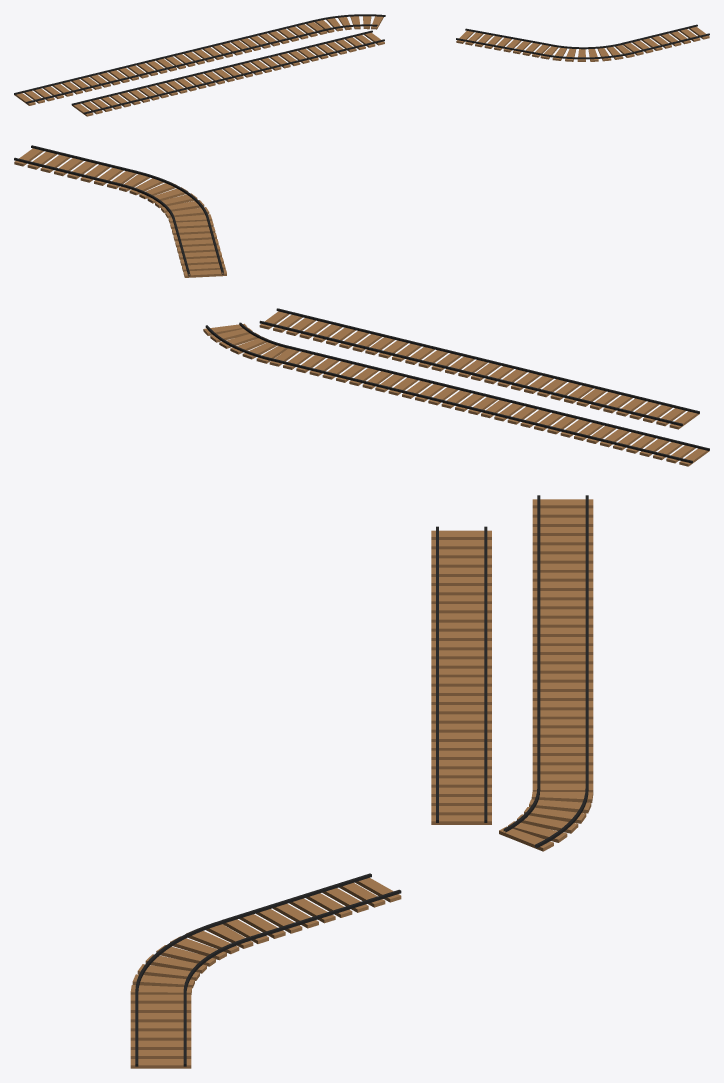
File: mesh_OwsiecimTrainTracksStat.fbx
The picture shows the model from 3 angles, top to bottom: view 1: azimuth 30°, elevation 25°; view 2: azimuth 150°, elevation 25°; view 3: azimuth 270°, elevation 25°; orthographic projection. The views are drawn at different scales.
Parts seen in each view (by area): view 1: TracksStat; view 2: TracksStat; view 3: TracksStat.
Part boxes in pixels (bbox=[...]): TracksStat: bbox=[14, 14, 709, 116]; TracksStat: bbox=[14, 145, 709, 466]; TracksStat: bbox=[130, 495, 593, 1068].
Bounding box in the file's own units: 5157 × 26.56 × 1773.
